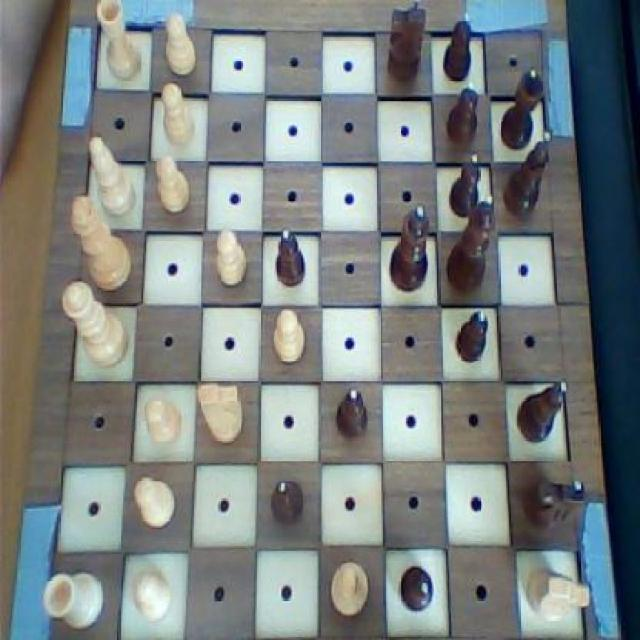bishop: (501, 127, 557, 220), (516, 376, 574, 446)
black-bishop: (443, 194, 499, 297)
black-king: (523, 471, 590, 539), (384, 0, 432, 88)
black-knight: (443, 77, 486, 151), (445, 148, 486, 223), (330, 381, 376, 447), (442, 8, 481, 82), (269, 228, 310, 292), (263, 472, 309, 528), (394, 560, 438, 618), (454, 306, 492, 369)
black-pawn: (385, 198, 437, 298)
black-queen: (498, 66, 551, 151)
black-rook: (86, 132, 141, 224), (324, 560, 376, 622)
white-bishop: (66, 192, 132, 296)
white-king: (521, 562, 597, 630), (194, 378, 251, 451)
white-knight: (131, 469, 183, 535), (159, 8, 203, 83), (126, 566, 177, 627), (151, 151, 195, 219), (158, 80, 197, 152), (268, 305, 310, 370), (212, 226, 252, 292), (143, 392, 185, 451)
white-pawn: (60, 275, 129, 371)
white-queen: (94, 0, 149, 85), (43, 566, 108, 632)
